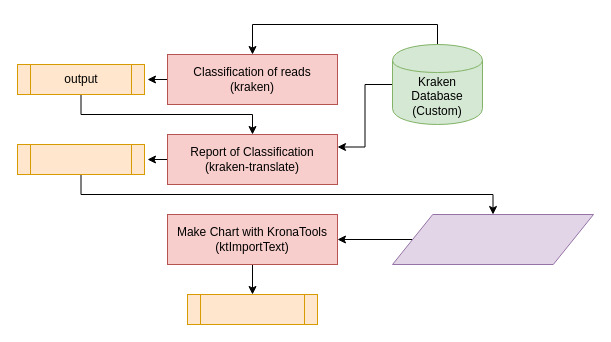
The diagram is 611 pixels wide and 342 high, and some of its shapes have lost their labels. Here are the shapes that lost their labels. From the top down, the centre of each, then its label:
the point at 80,159: output.labels
the point at 493,239: Format to make krona chart
the point at 252,309: kraken_chart.html
